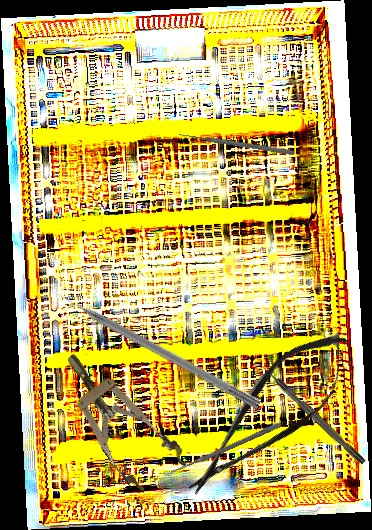Hook Surgical: (257, 360, 367, 467)
Micro Scissor: (167, 313, 371, 517)
Pusher: (50, 284, 263, 411), (177, 130, 295, 157)
Speculum: (45, 336, 191, 500)
Surgical Spoon: (163, 421, 281, 479)
